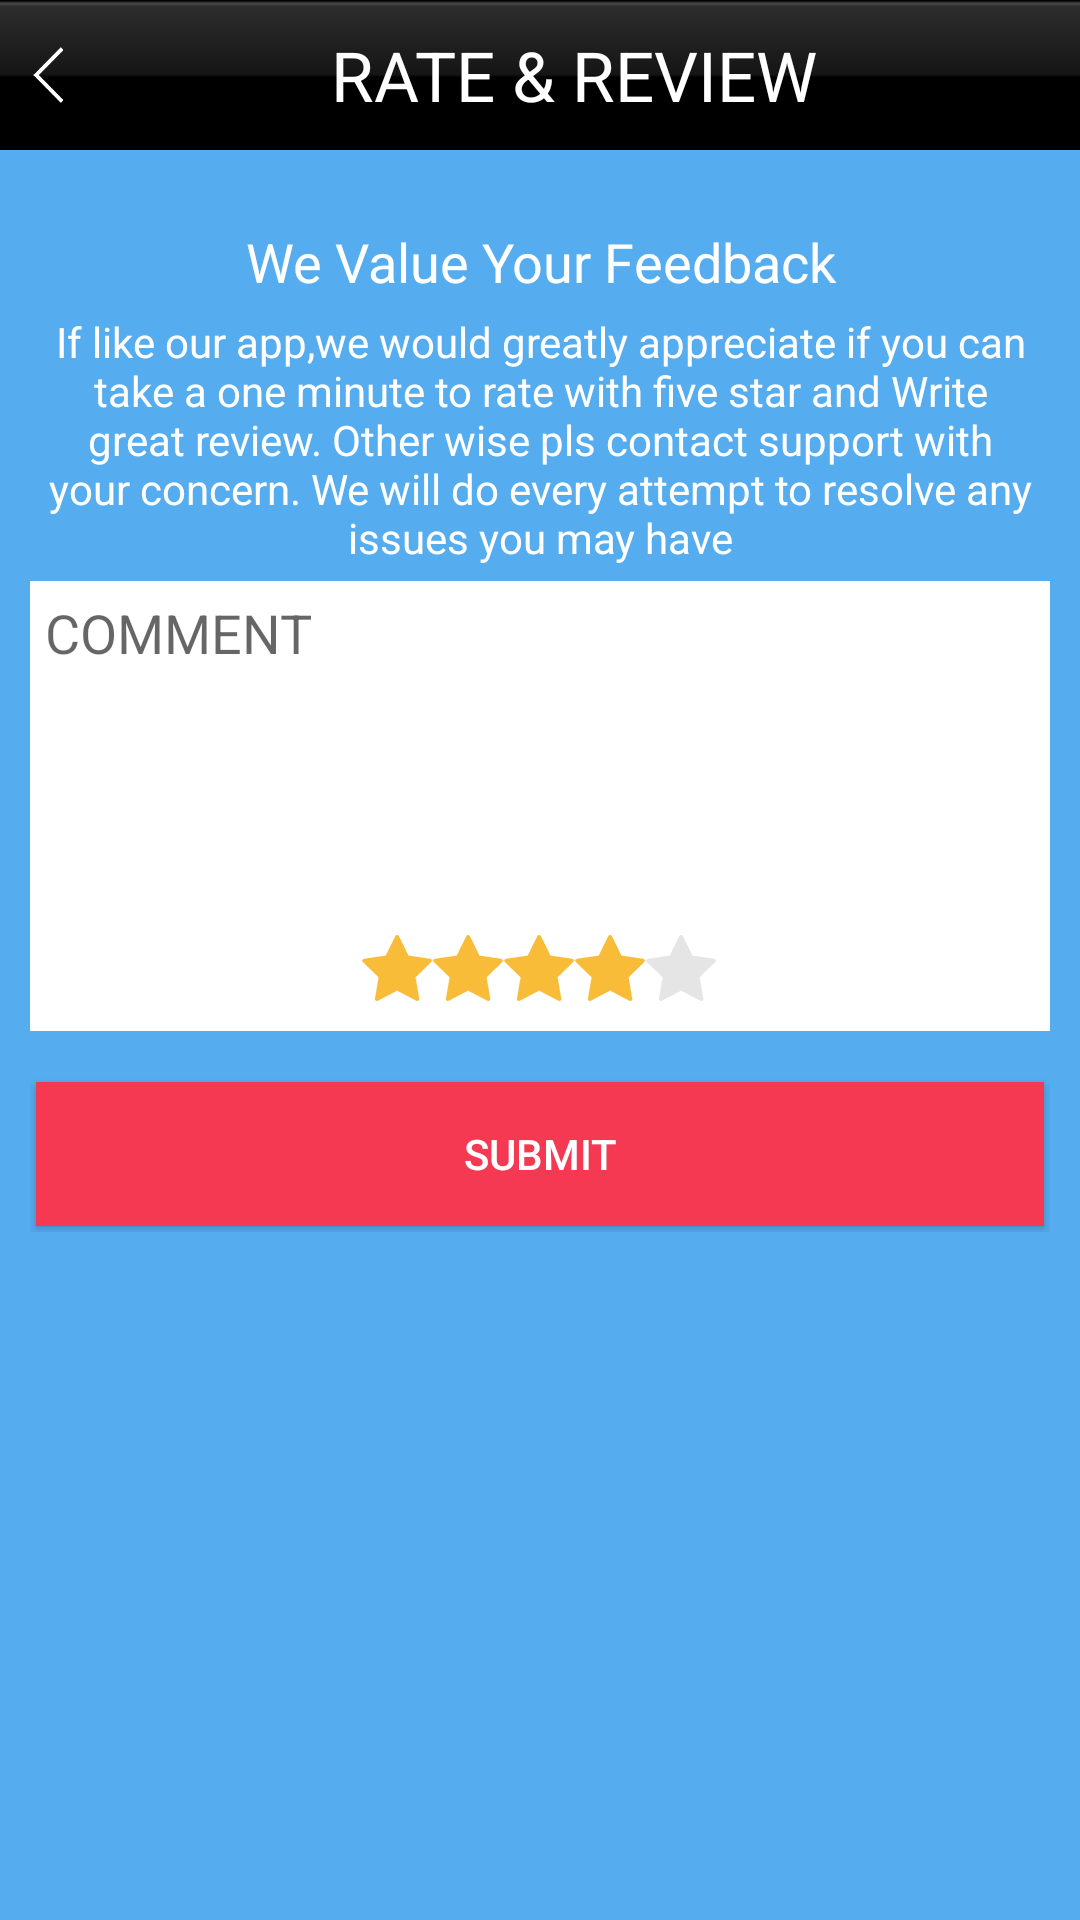

Icon bounding boxes for this 1080px x 1920px phone screenshot, format (x1, y1, x2, y2):
rating gold: (362, 935, 433, 1001), (433, 935, 504, 1001), (504, 935, 575, 1001), (575, 935, 646, 1001)
